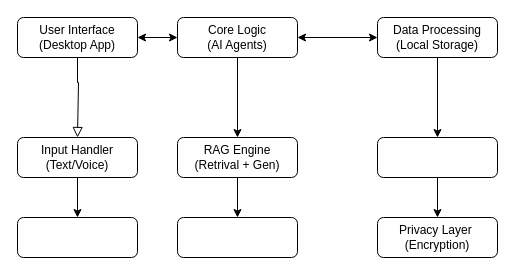
Image size: 515x275. Some labels were removed from this diagram. The centre of each missing label's shape, as x and y in pixels:
File Processor (Docs/Images): point (77, 237)
LLM EndPoint (local/external): point (237, 237)
Vector Database (Embeddings): point (437, 157)
